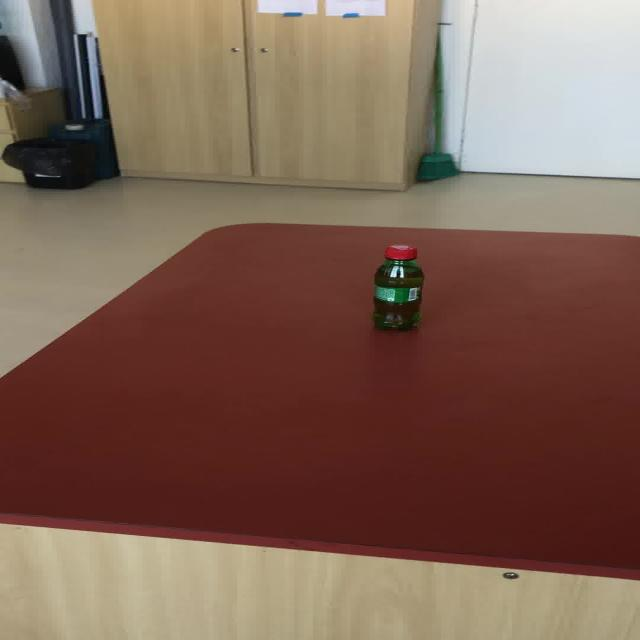guarana: (370, 243, 424, 331)
